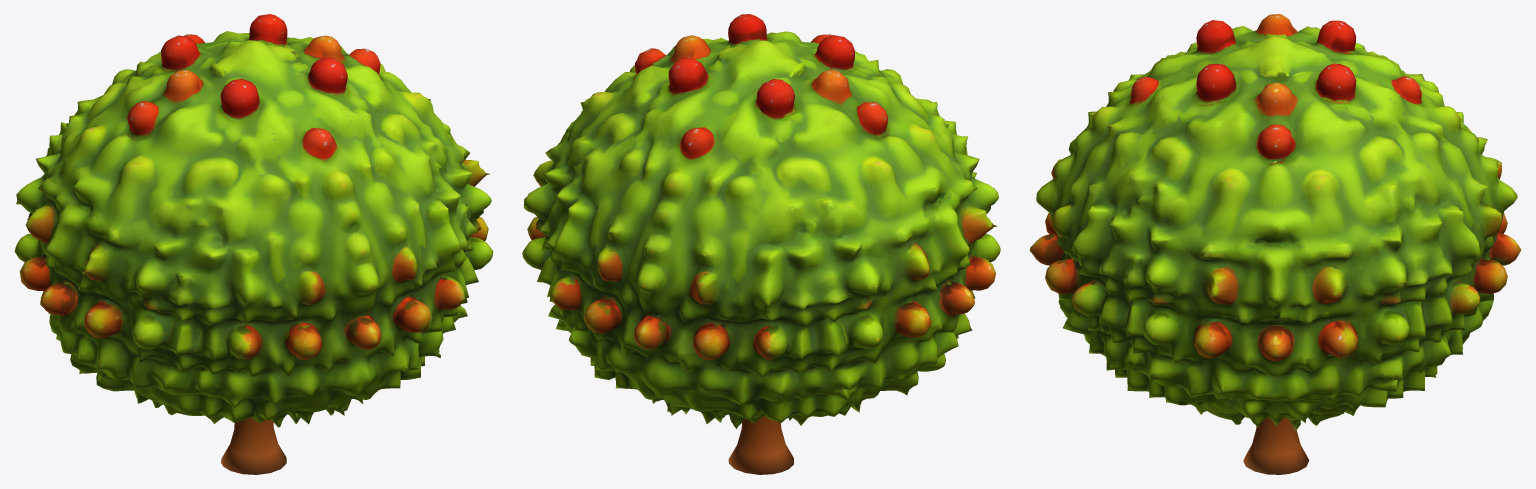
File: bushWFruit.fbx
The picture shows the model from 3 angles, left to right: view 1: azimuth 30°, elevation 25°; view 2: azimuth 150°, elevation 25°; view 3: azimuth 270°, elevation 25°; orthographic projection.
Parts seen in each view (by area): view 1: model; view 2: model; view 3: model.
Part boxes in pixels (left/top/right/bottom): model: left=14, top=14, right=493, bottom=474; model: left=522, top=14, right=1000, bottom=474; model: left=1029, top=14, right=1521, bottom=474.
Size of the model in its own units: 184 by 173 by 182.
Materials: 1 (1 with a texture image).
